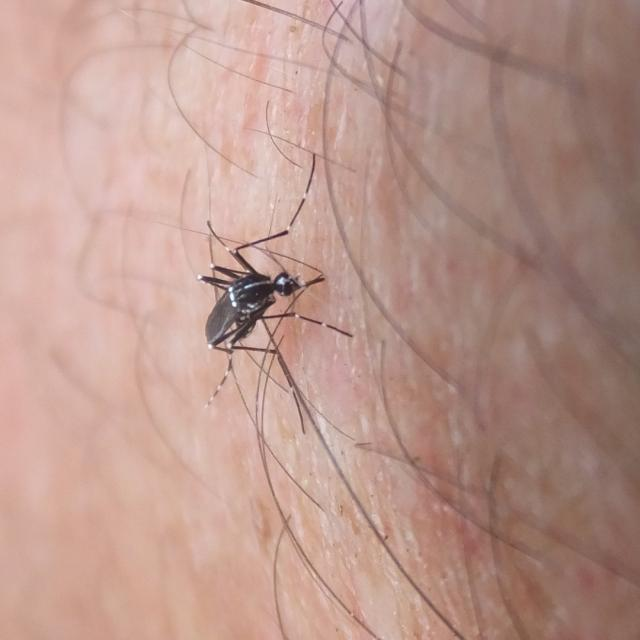albopictus: (164, 81, 450, 584)
